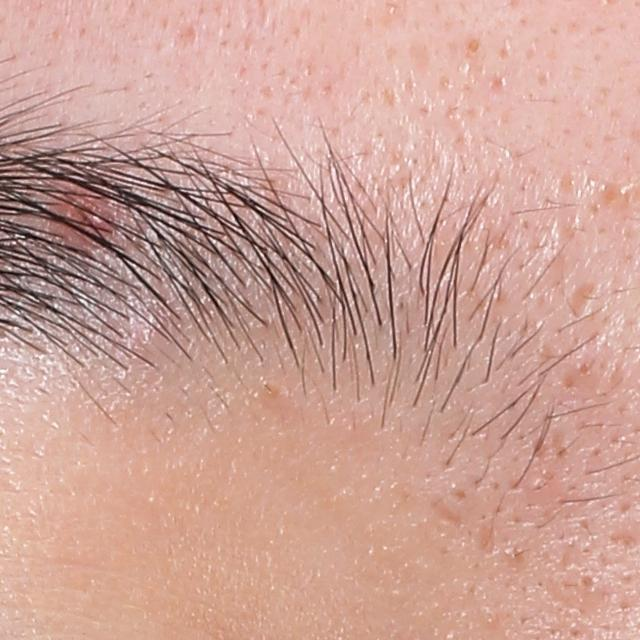atrophic_scar: (428, 496, 471, 529), (570, 273, 599, 319), (475, 514, 499, 565), (168, 19, 203, 49)
comedo: (574, 569, 602, 598), (464, 34, 486, 58)
papule: (60, 198, 112, 241)
